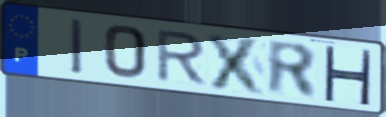0: (102, 23, 150, 82)
H: (321, 43, 374, 108)
I: (68, 16, 85, 77)
R: (265, 38, 320, 101), (153, 28, 210, 87)
X: (205, 31, 269, 97)
